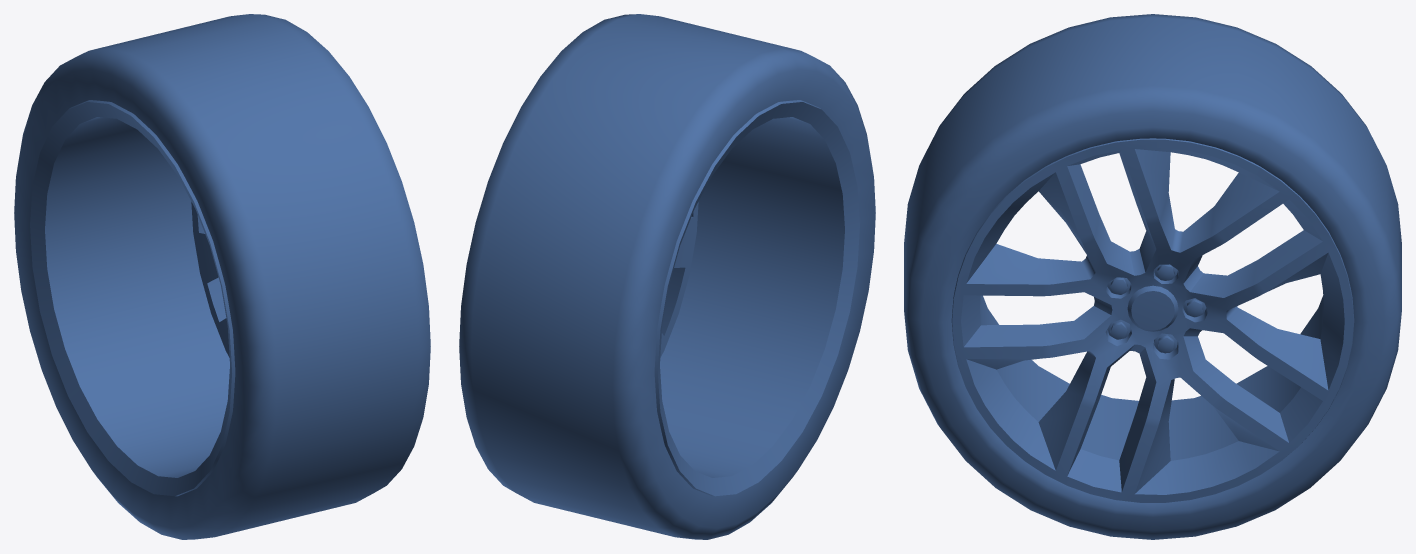
File: RealisticCar06_HD_Wheel.FBX
The picture shows the model from 3 angles, left to right: view 1: azimuth 30°, elevation 25°; view 2: azimuth 150°, elevation 25°; view 3: azimuth 270°, elevation 25°; orthographic projection.
Parts seen in each view (by area): view 1: Car06_Wheel_Front_Left_LOD0; view 2: Car06_Wheel_Front_Left_LOD0; view 3: Car06_Wheel_Front_Left_LOD0.
Boxes of the visible parts, x1,y1,x2,y2 form: Car06_Wheel_Front_Left_LOD0: (14,14,430,539); Car06_Wheel_Front_Left_LOD0: (459,14,875,539); Car06_Wheel_Front_Left_LOD0: (904,14,1401,539).
Size of what is drawn, in the model's own units: 0.3131 by 0.736 by 0.736.
